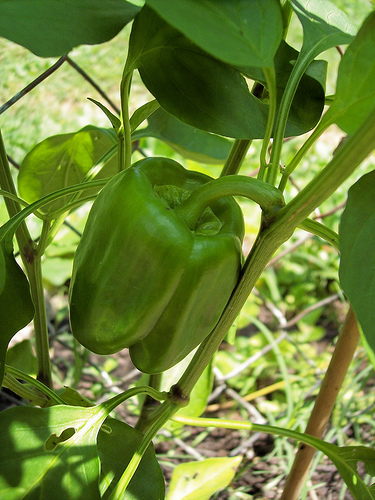capsicum: (67, 157, 243, 372)
